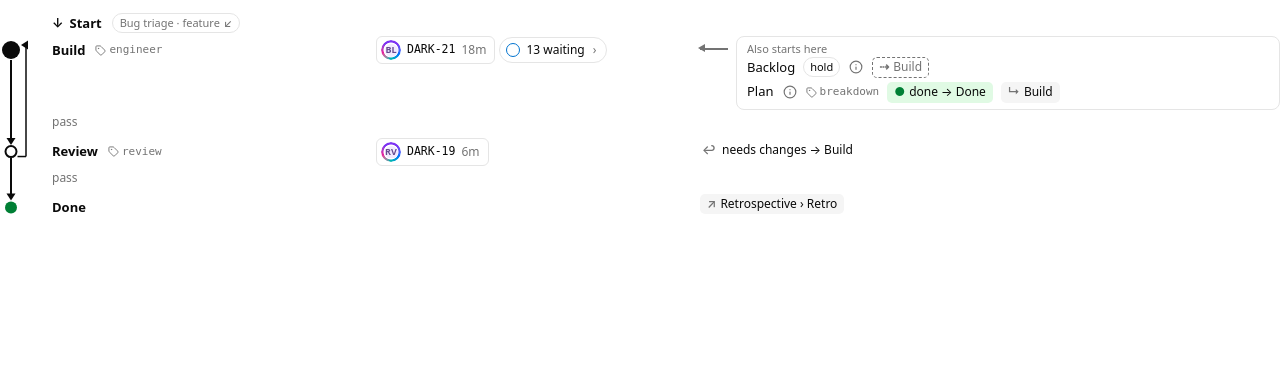
Test case: the Tasks at a Step › opens the Step's list in place on a click: the waiting Tasks oldest first, five, then 'N more Tasks' to the Tasks list at the Step
Click the button "13 waiting ›". click: x=553, y=50
box: [499,37,606,63]
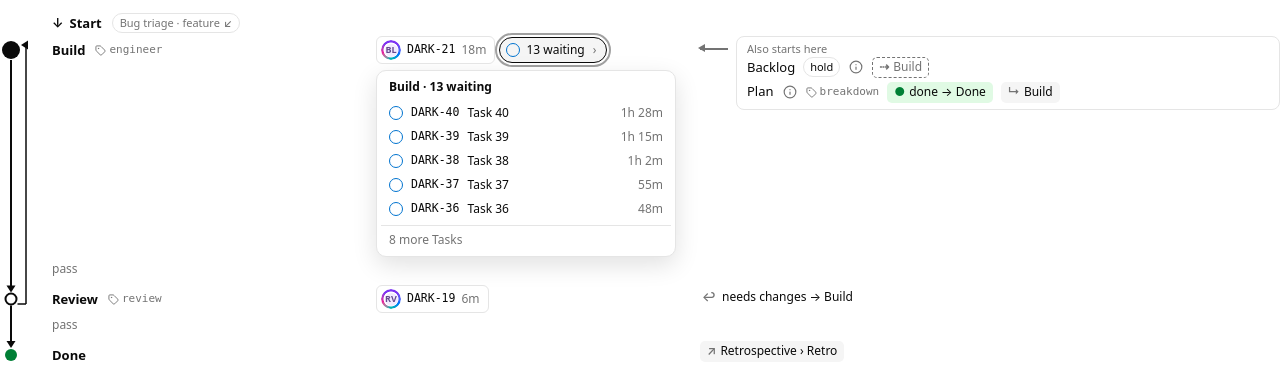
Expected: the button "13 waiting ›" is expanded, [499,37,606,63]
Expected: the button "DARK-40 Task 40 1h 28m" is shown, [381,101,671,125]
